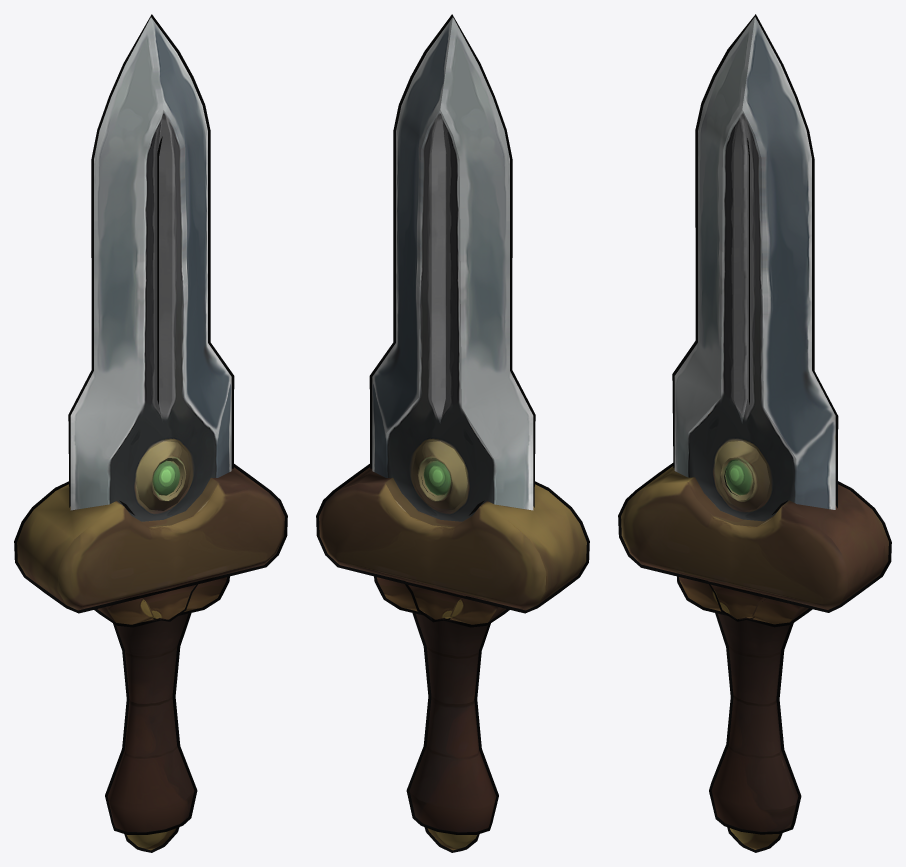
Rendered from T_Daga.fbx.
The picture shows the model from 3 angles, left to right: view 1: azimuth 30°, elevation 25°; view 2: azimuth 150°, elevation 25°; view 3: azimuth 330°, elevation 25°; orthographic projection.
Visible parts, largest first — view 1: SM_Daga, SM_DagaOutlaner; view 2: SM_Daga, SM_DagaOutlaner; view 3: SM_Daga, SM_DagaOutlaner.
Part boxes in pixels (bbox=[...]): SM_Daga: bbox=[17, 17, 284, 850]; SM_DagaOutlaner: bbox=[14, 14, 287, 852]; SM_Daga: bbox=[319, 17, 586, 850]; SM_DagaOutlaner: bbox=[316, 14, 589, 852]; SM_Daga: bbox=[621, 17, 888, 849]; SM_DagaOutlaner: bbox=[618, 14, 891, 852].
Size of the model in its own units: 4.28 by 14.77 by 1.63.
